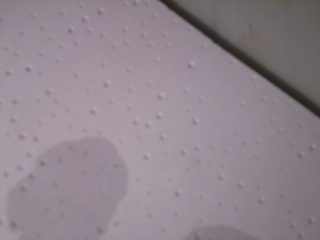Water_detected: (27, 154, 108, 236)
